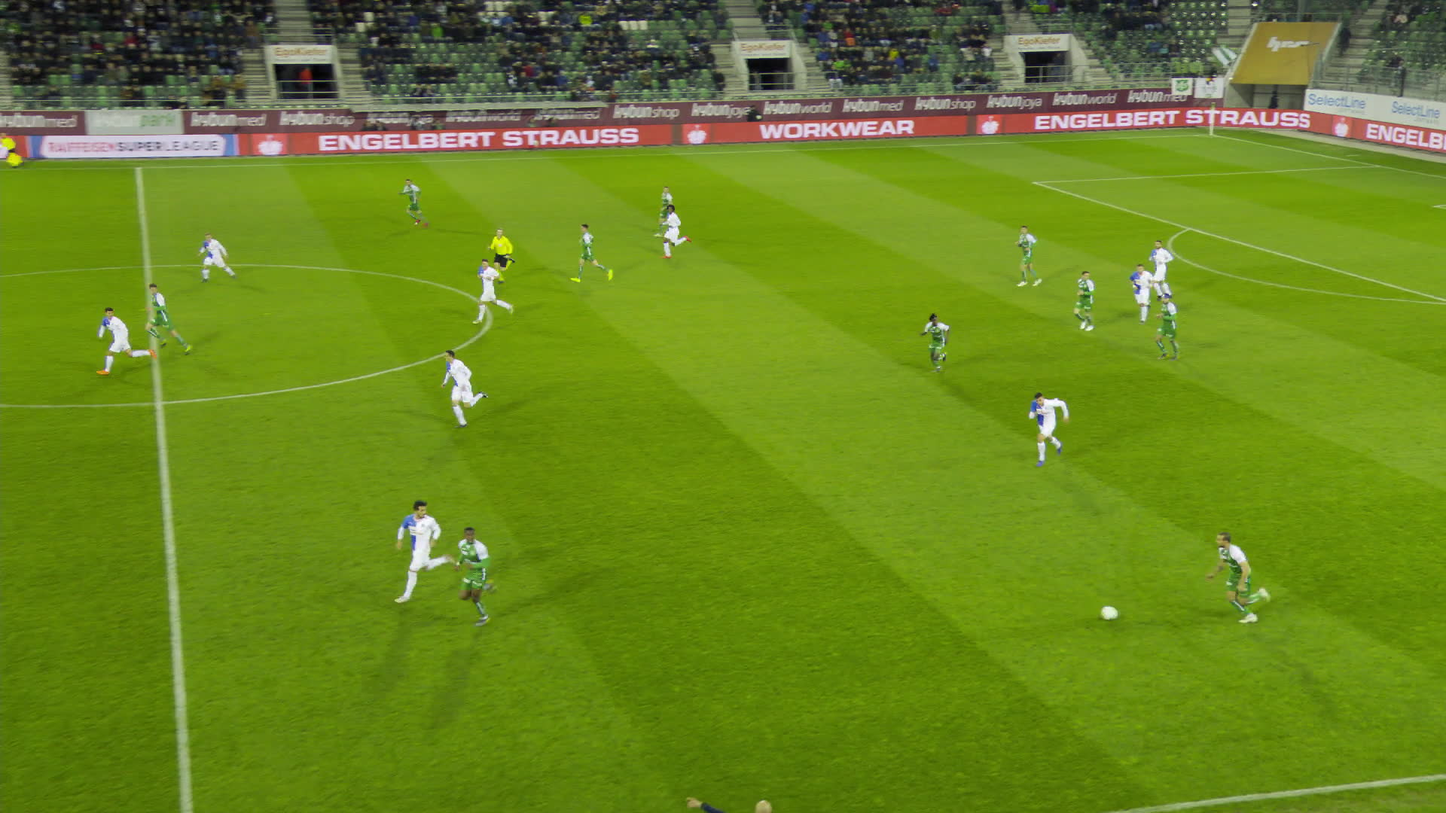ball: (1111, 607, 1126, 620)
player: (398, 499, 458, 605), (1216, 531, 1274, 626), (456, 526, 508, 629), (441, 348, 491, 431), (97, 308, 158, 376), (1030, 391, 1070, 461), (146, 286, 184, 357), (572, 224, 609, 284), (475, 260, 508, 327), (654, 204, 692, 259), (915, 313, 947, 375), (1149, 294, 1177, 361), (194, 234, 227, 285), (1125, 262, 1150, 324), (1011, 227, 1036, 289), (1146, 242, 1171, 298), (395, 180, 423, 229), (1072, 271, 1094, 333), (653, 187, 669, 239)
referee: (486, 227, 514, 285), (0, 132, 24, 168)
